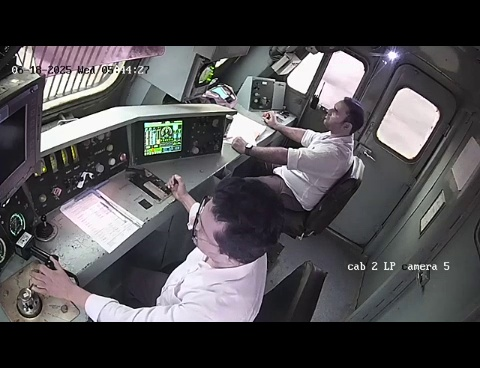brake_applied: (2, 255, 109, 322)
horn_inactive: (29, 210, 67, 248)
